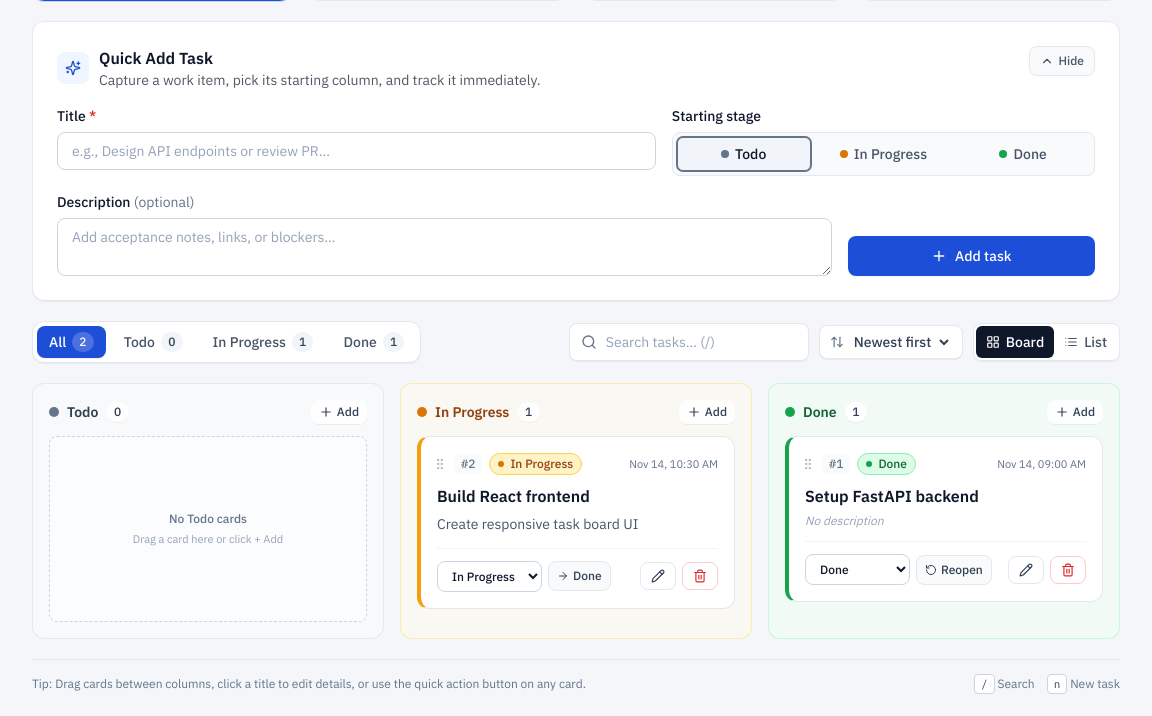
Test: Project Tracker App › confirms before deleting a task and removes it on confirmation (US-04)
(page scrolled)
Expected: the button "Setup FastAPI backend" is shown, [805,485,979,507]
Step 1. Click the button named "Delete Setup FastAPI backend" → (1068, 570), box [1050,556,1086,584]
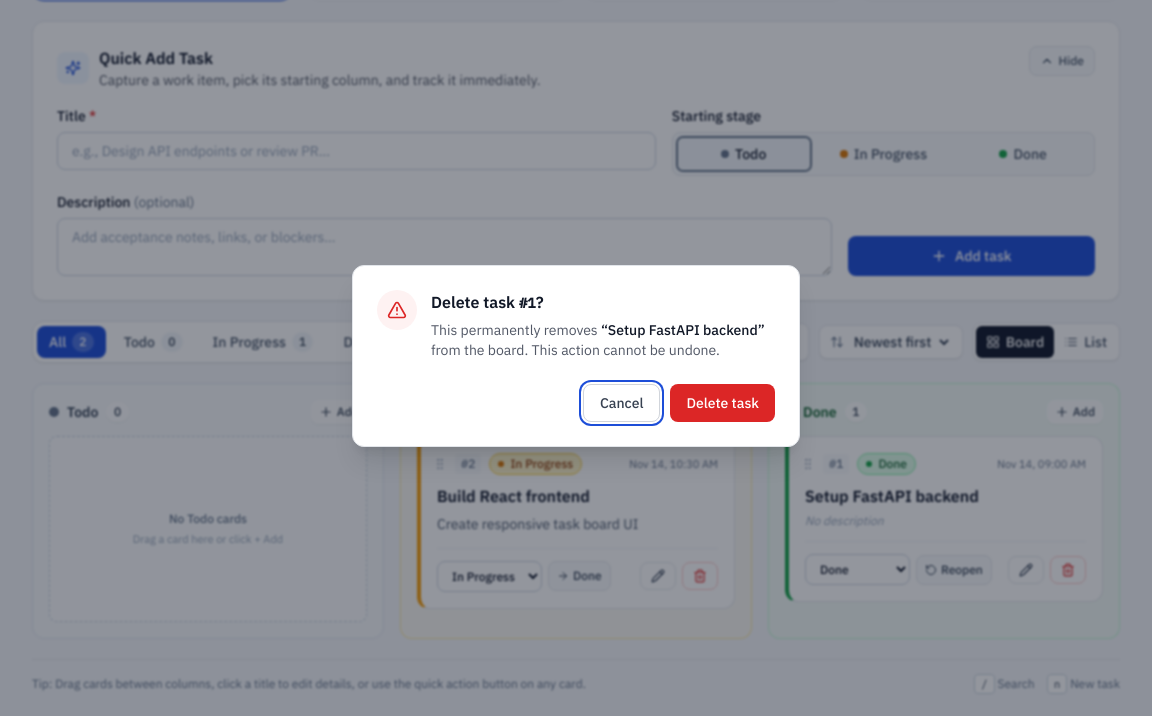
Expected: the dialog shows "Setup FastAPI backend", [608,321,758,339]
Note: Cancel keeps the task
Step 2. Click the button "Cancel" → (622, 403), box [583,384,660,422]
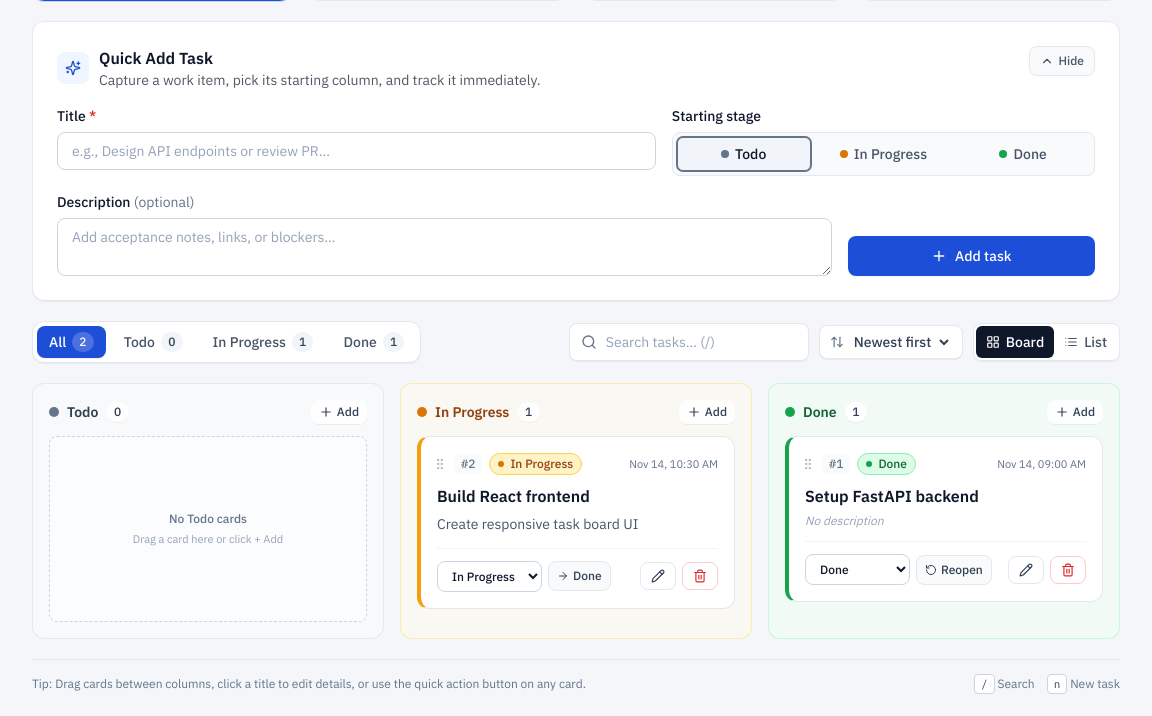
Expected: the button "Setup FastAPI backend" is shown, [805,485,979,507]
Note: Confirm removes the task
Step 3. Click the button named "Delete Setup FastAPI backend" → (1068, 570), box [1050,556,1086,584]
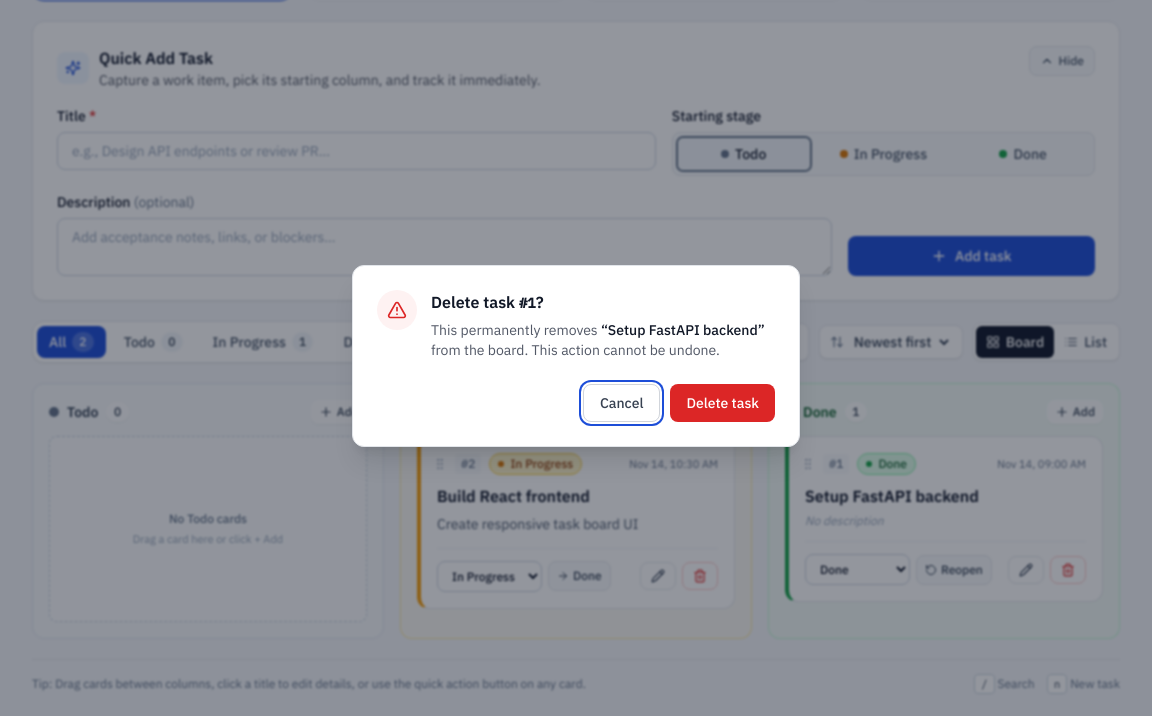
Step 4. Click the button "Delete task" → (723, 403), box [670,384,775,422]
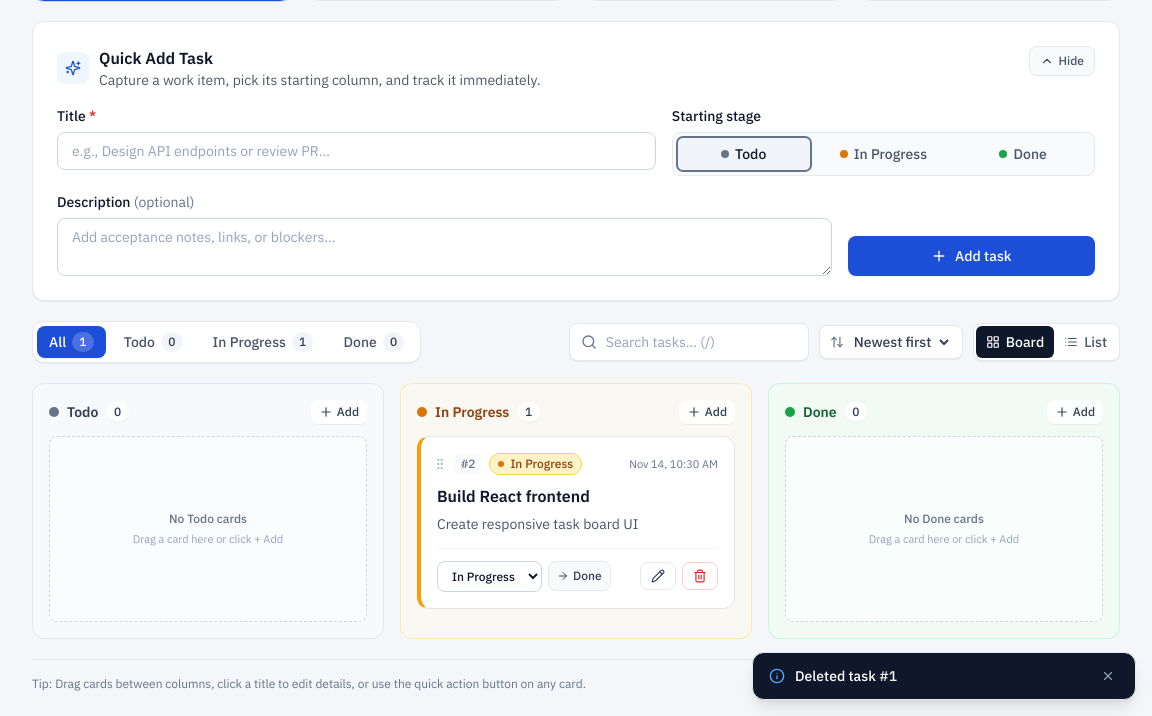
Expected: the button "Setup FastAPI backend" is gone
